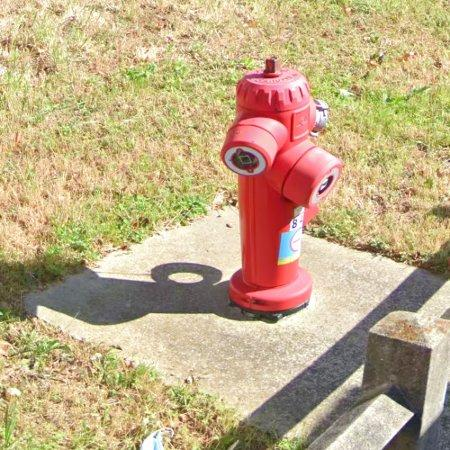a fire hydrant: (222, 58, 343, 315)
